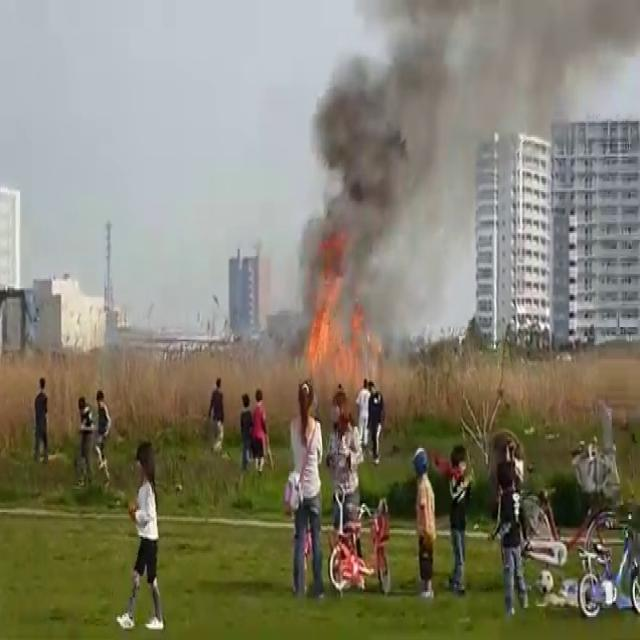Fire: (300, 280, 376, 370)
Smoke: (282, 0, 619, 348), (281, 0, 471, 357)
